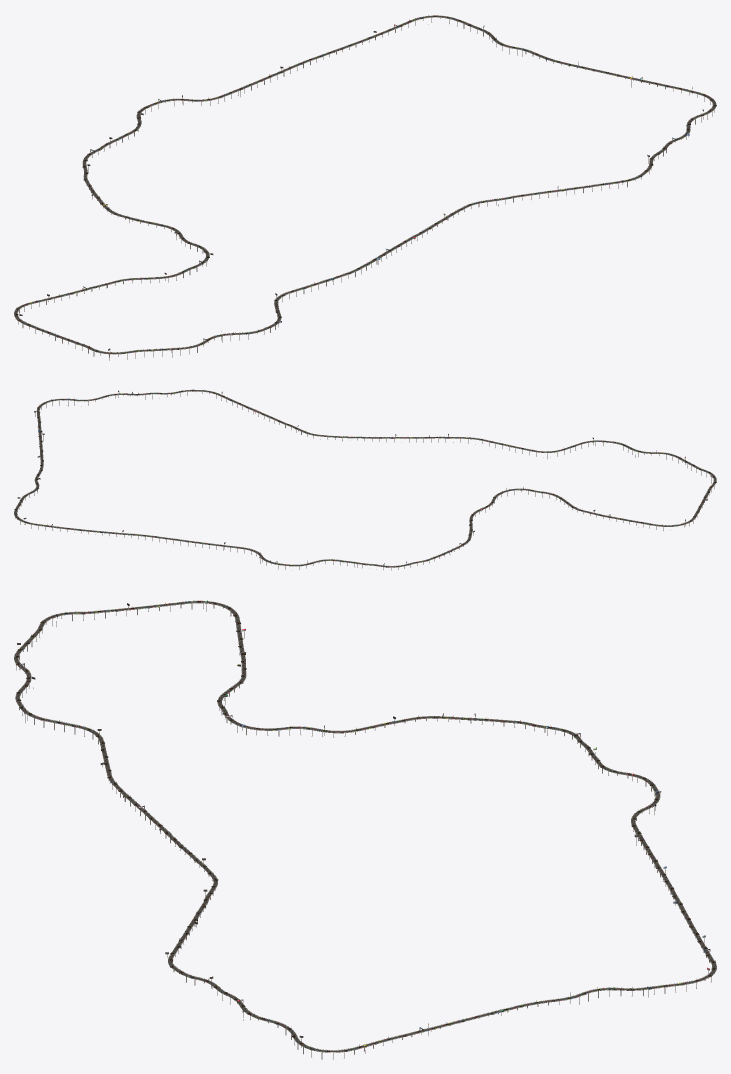
File: track.glb
The picture shows the model from 3 angles, top to bottom: view 1: azimuth 30°, elevation 25°; view 2: azimuth 150°, elevation 25°; view 3: azimuth 270°, elevation 25°; orthographic projection. The views are drawn at different scales.
Parts seen in each view (by area): view 1: track_surface, track_barriers, pylons, track_under, tubes_lamps; view 2: track_surface, track_barriers, pylons, track_under, tubes_lamps, fittings; view 3: track_surface, track_barriers, pylons, tubes_lamps, track_under, fittings.
Part boxes in pixels (x1,y1,x2,y2): track_surface: (14, 15, 716, 353); track_barriers: (15, 15, 715, 354); pylons: (15, 18, 714, 360); track_under: (14, 15, 715, 354); tubes_lamps: (15, 15, 716, 353); track_surface: (14, 390, 716, 567); track_barriers: (16, 390, 715, 567); pylons: (15, 392, 714, 570); track_under: (22, 390, 714, 567); tubes_lamps: (14, 390, 716, 567); fittings: (17, 389, 716, 567); track_surface: (14, 601, 716, 1051); track_barriers: (15, 600, 716, 1052); pylons: (16, 603, 712, 1059); tubes_lamps: (16, 601, 715, 1051); track_under: (14, 601, 716, 1052); fittings: (17, 600, 715, 1052).
Size of the model in its own units: 3994 by 72.04 by 2622.
69 materials, 56 textured.
